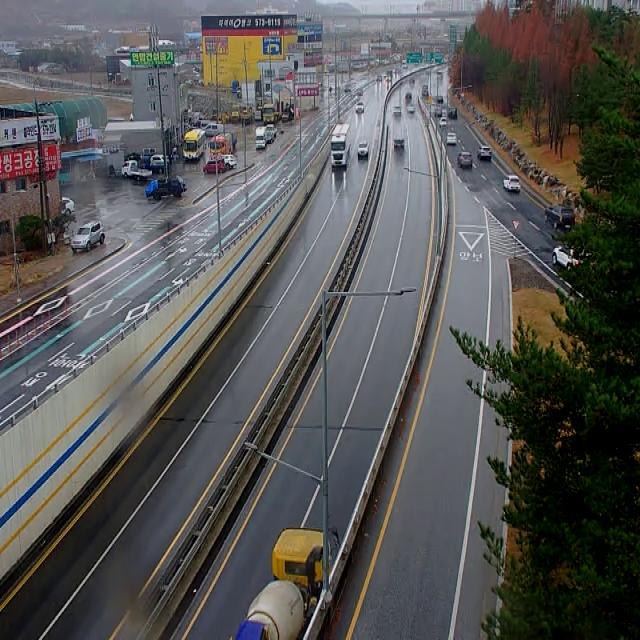Bus: (183, 128, 206, 160)
Car: (71, 220, 105, 254), (544, 205, 576, 230), (552, 244, 583, 269), (201, 123, 225, 138), (202, 159, 224, 174), (503, 175, 521, 193), (61, 197, 75, 216), (477, 147, 492, 162), (458, 152, 472, 168), (223, 155, 237, 170), (150, 155, 170, 165), (358, 142, 369, 158), (281, 109, 294, 122), (266, 125, 277, 138), (394, 138, 405, 150), (447, 133, 457, 146), (448, 106, 457, 120), (392, 106, 402, 116), (356, 102, 364, 114), (266, 133, 274, 144), (440, 117, 448, 128), (407, 105, 416, 114), (344, 84, 352, 93), (422, 86, 429, 96), (355, 88, 363, 96), (435, 109, 442, 117), (405, 92, 412, 99), (376, 74, 382, 82), (438, 96, 444, 104), (386, 75, 391, 81)
Truck: (235, 529, 332, 640), (331, 123, 352, 169), (151, 177, 187, 200), (208, 133, 237, 160), (122, 161, 152, 181), (138, 155, 164, 173), (262, 105, 278, 123), (256, 127, 266, 150)
